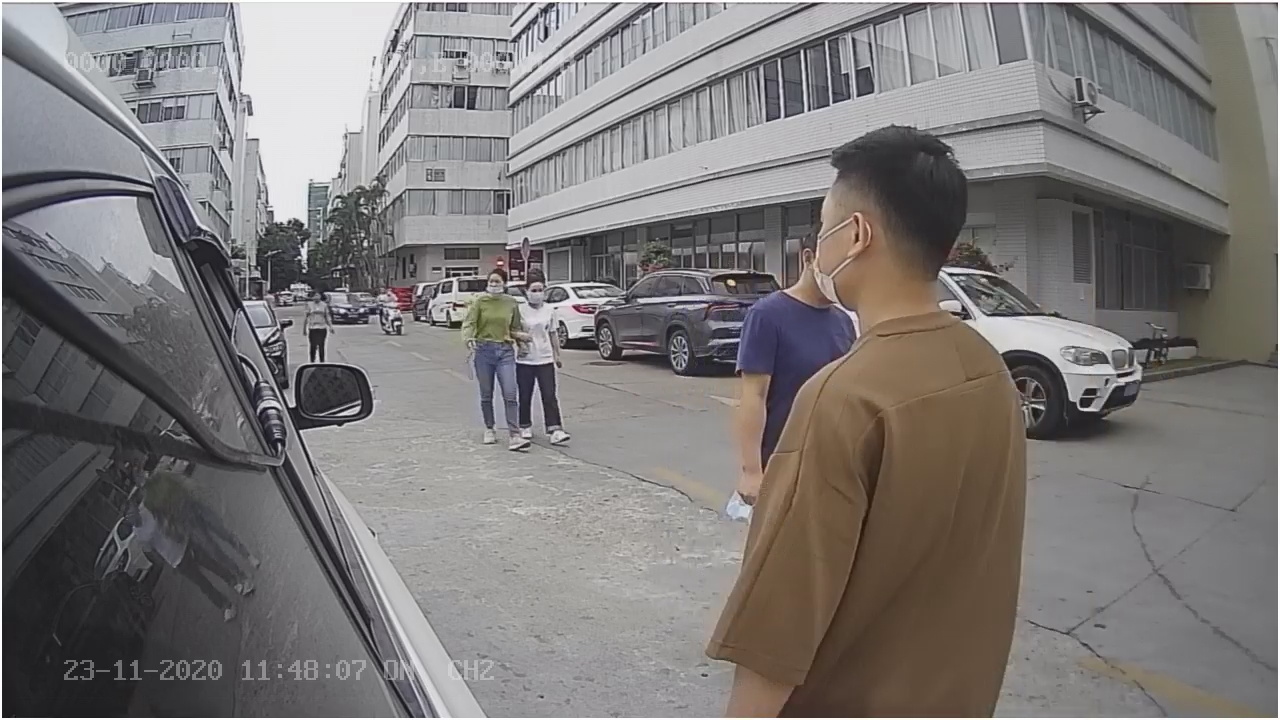person: (456, 266, 534, 452)
